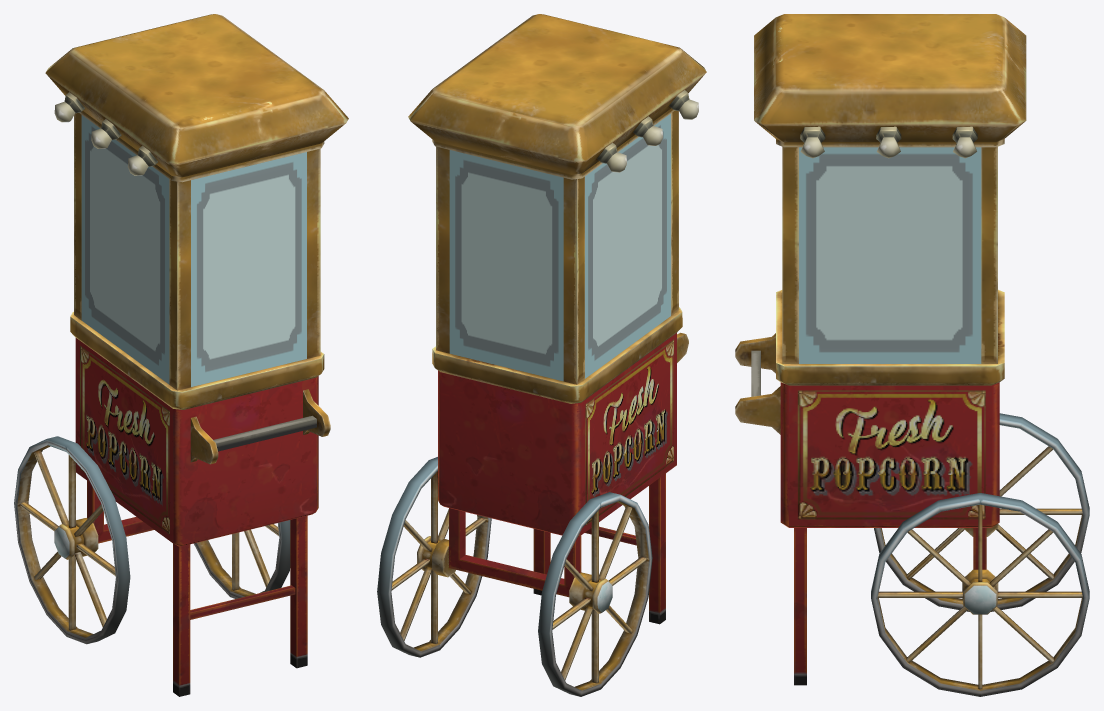
File: SM_Popcorn Machine.fbx
3 views of the same model, side by side, from view 1: azimuth 30°, elevation 25°; view 2: azimuth 150°, elevation 25°; view 3: azimuth 270°, elevation 25° (orthographic). The views are drawn at different scales.
Parts seen in each view (by area): view 1: SM_Cart_01, SM_Cart_05, SM_Cart_03, SM_Cart_02, SM_Cart_04; view 2: SM_Cart_01, SM_Cart_05, SM_Cart_03, SM_Cart_04; view 3: SM_Cart_01, SM_Cart_05, SM_Cart_03, SM_Cart_02, SM_Cart_04.
Boxes of the visible parts, x1,y1,x2,y2 form: SM_Cart_01: [45, 14, 348, 696]; SM_Cart_05: [81, 115, 306, 386]; SM_Cart_03: [14, 436, 290, 644]; SM_Cart_02: [190, 389, 330, 464]; SM_Cart_04: [54, 92, 157, 175]; SM_Cart_01: [408, 14, 706, 624]; SM_Cart_05: [449, 113, 670, 381]; SM_Cart_03: [377, 457, 652, 696]; SM_Cart_04: [597, 90, 698, 172]; SM_Cart_01: [754, 14, 1026, 685]; SM_Cart_05: [799, 147, 981, 363]; SM_Cart_03: [871, 413, 1089, 696]; SM_Cart_02: [735, 333, 780, 434]; SM_Cart_04: [800, 126, 977, 158].
Size of the model in its own units: 57.61 by 152 by 81.
